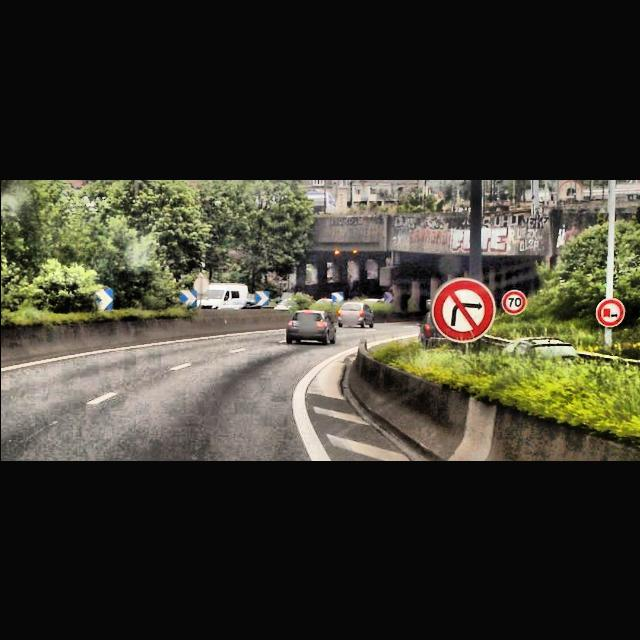speed_70: (502, 290, 526, 314)
